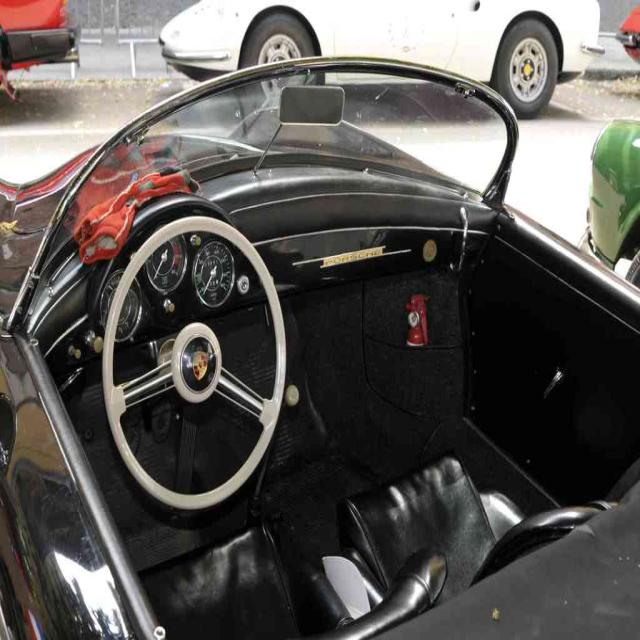car: (157, 0, 604, 114)
